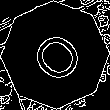O_SE: (21, 22, 89, 88)
